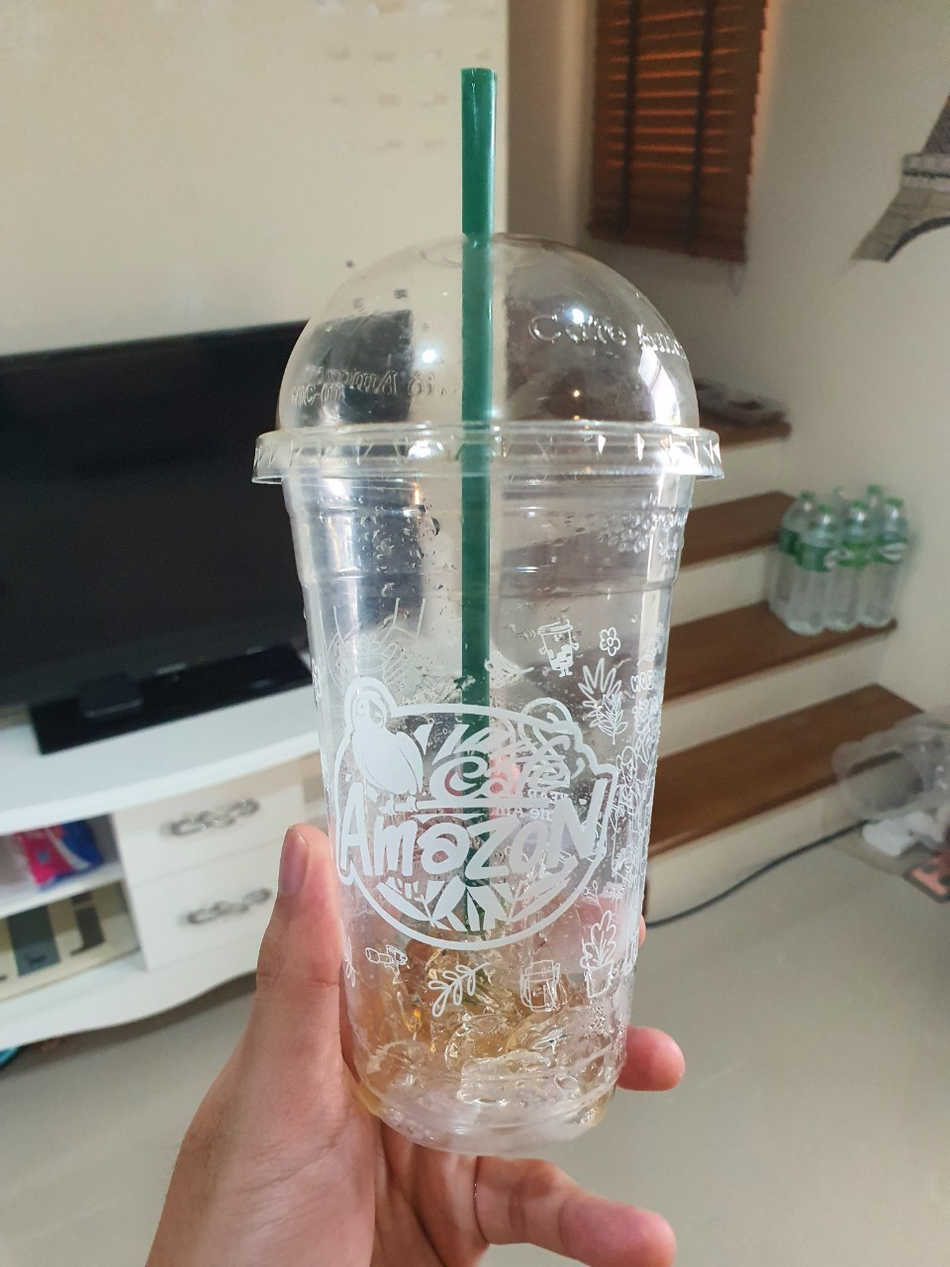plastic: (241, 52, 734, 1159)
